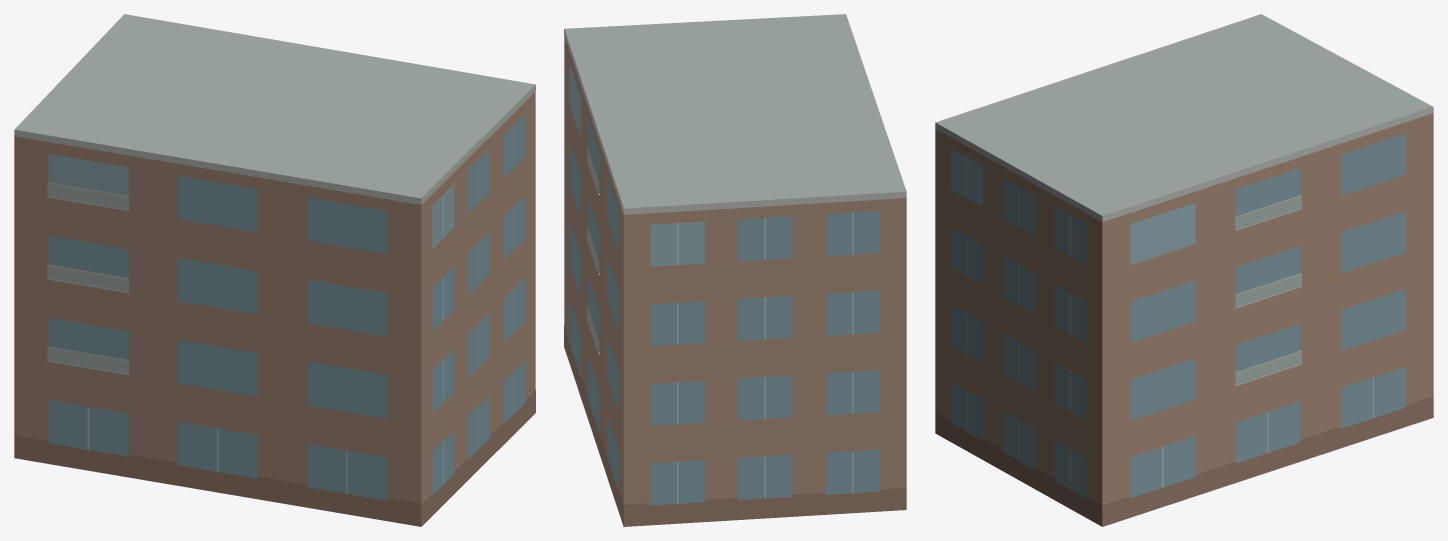
The model's file is survey-upis-32690141.glb.
3 views of the same model, side by side, from view 1: azimuth 30°, elevation 25°; view 2: azimuth 150°, elevation 25°; view 3: azimuth 270°, elevation 25° (orthographic). The views are drawn at different scales.
Parts seen in each view (by area): view 1: survey-upis-32690141.tmp; view 2: survey-upis-32690141.tmp; view 3: survey-upis-32690141.tmp.
Part boxes in pixels (x1=…): survey-upis-32690141.tmp: x1=14, y1=14, x2=535, y2=526; survey-upis-32690141.tmp: x1=564, y1=14, x2=906, y2=526; survey-upis-32690141.tmp: x1=935, y1=14, x2=1433, y2=526.
Size of the model in its own units: 17.01 by 12.2 by 17.73.
